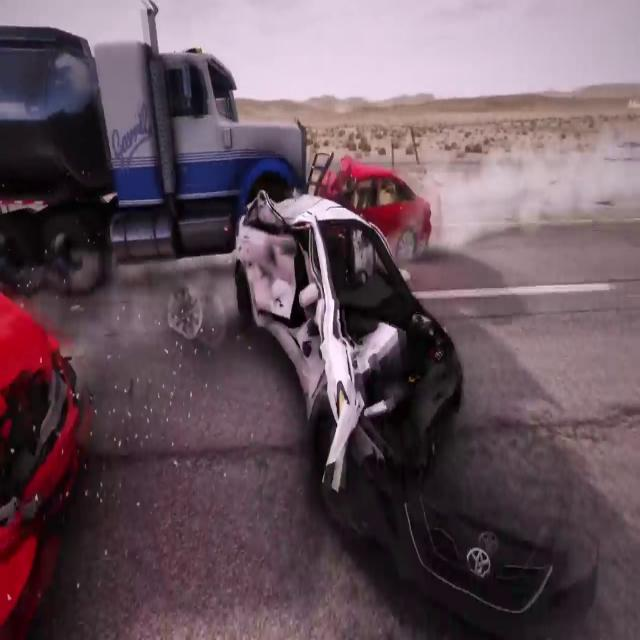accident: (184, 126, 472, 502)
